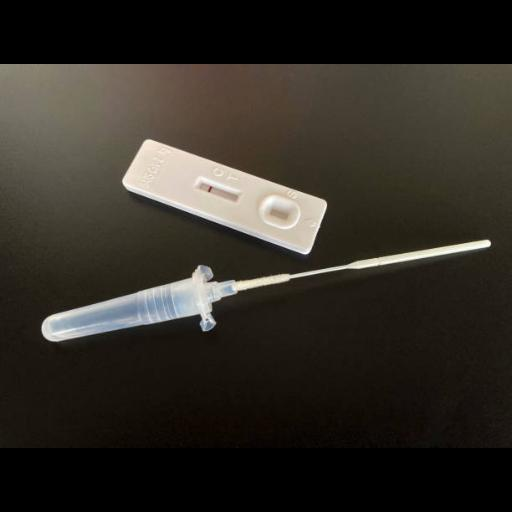Neg: (121, 137, 329, 251)
